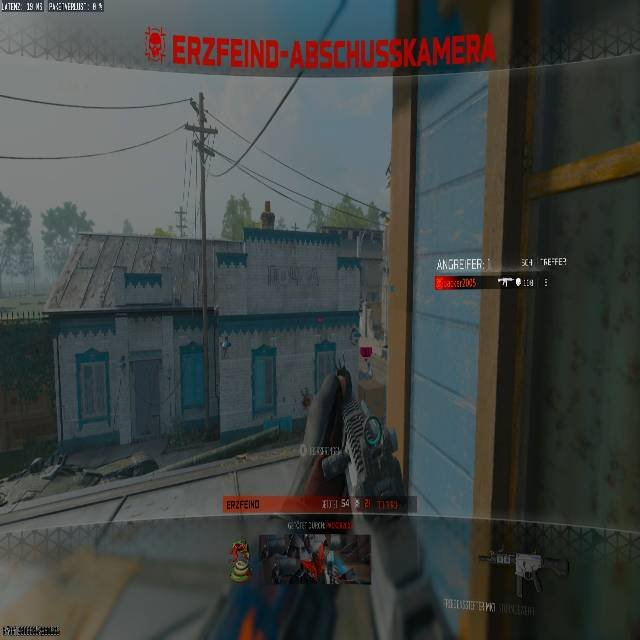player: (268, 366, 440, 640)
